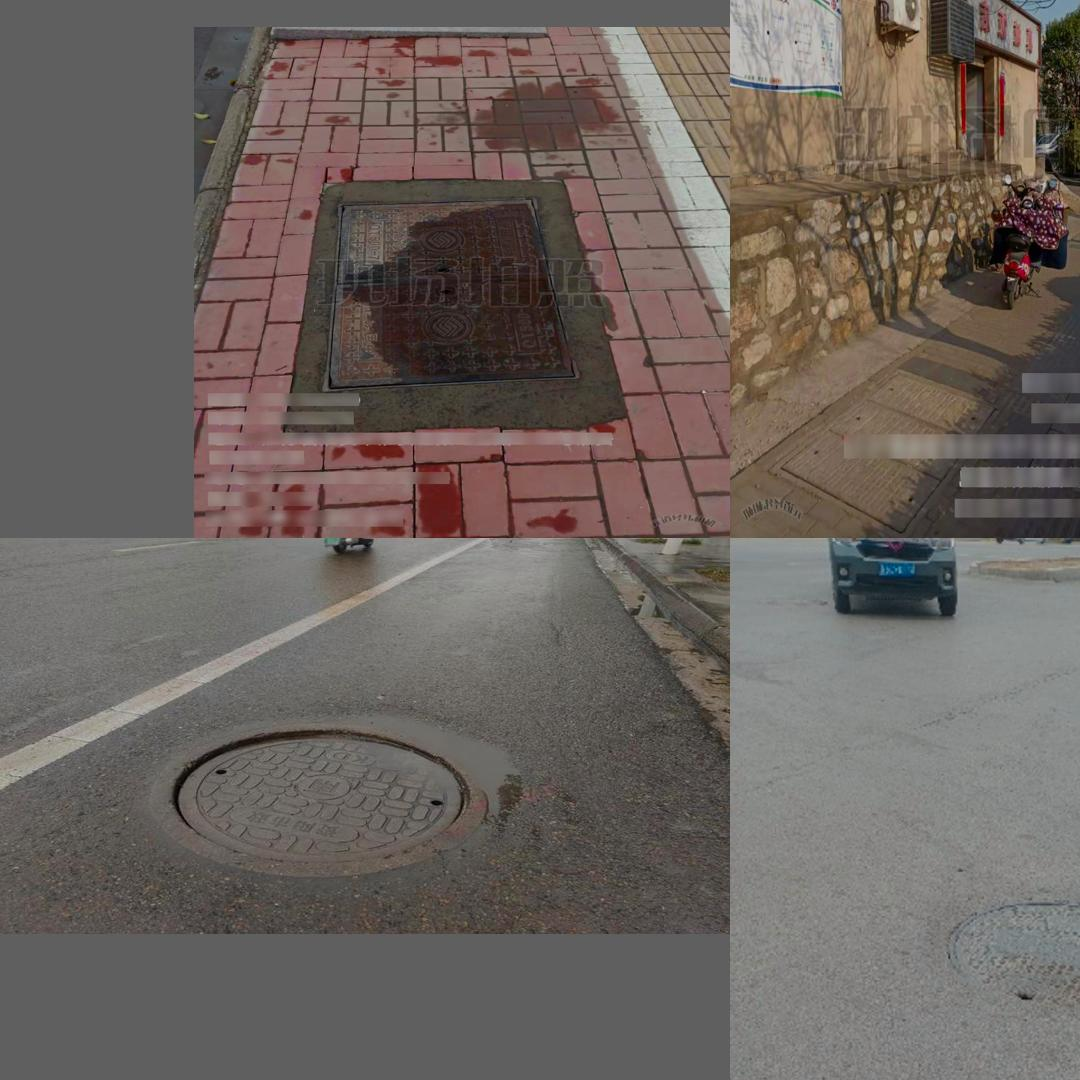good: (140, 708, 535, 883), (322, 195, 579, 389), (766, 371, 998, 535), (946, 900, 1080, 1003)
